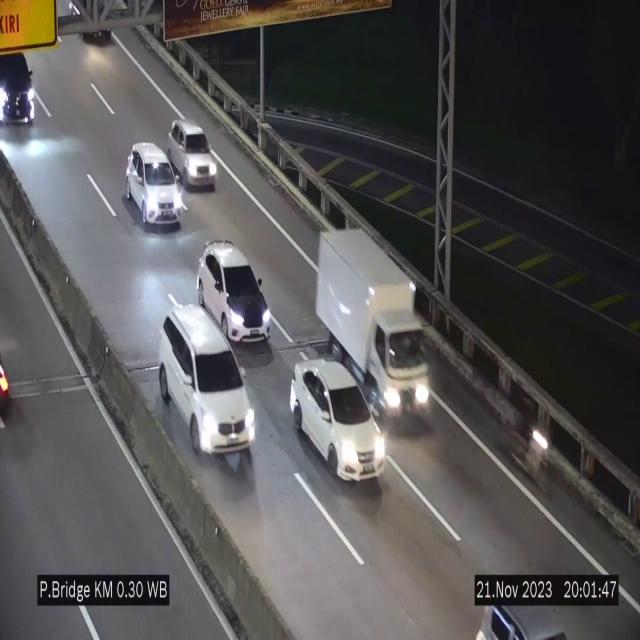Car: (158, 307, 256, 462), (290, 361, 386, 483), (197, 240, 272, 344), (125, 143, 183, 227), (168, 121, 216, 189)
Motorcycle: (509, 396, 553, 498)
Truck: (314, 228, 432, 427)
